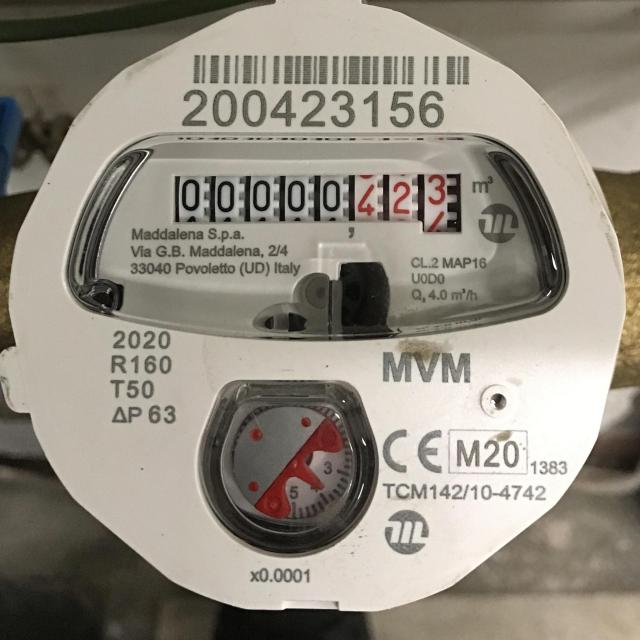gaz_meter: (6, 1, 630, 611)
indication: (174, 171, 463, 227)
